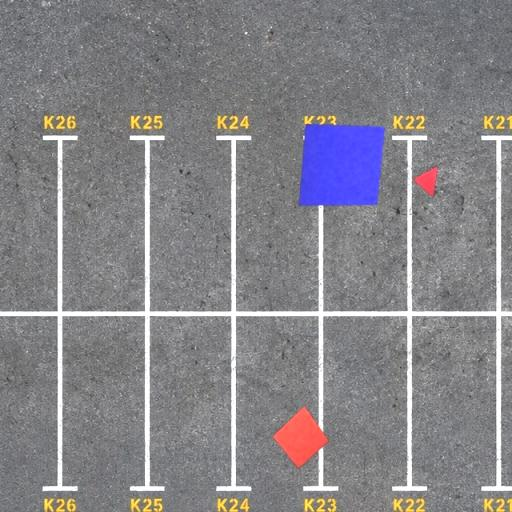BLUE_SQUARE: (298, 122, 386, 206)
RED_SQUARE: (272, 406, 330, 470)
